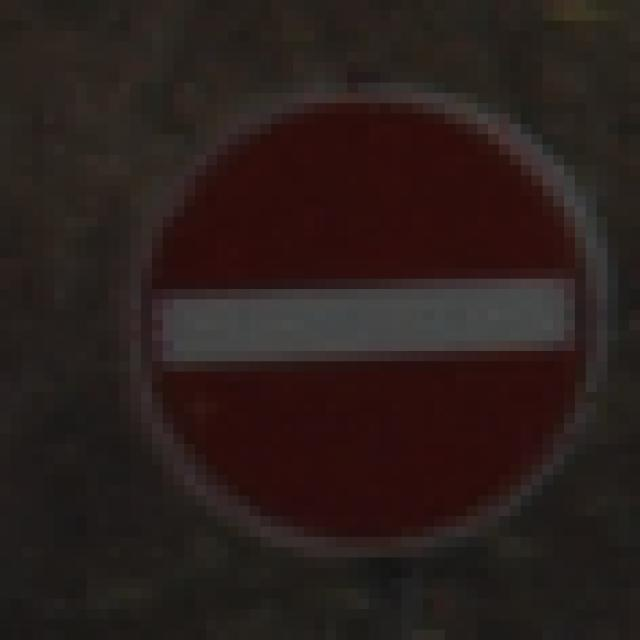No Entry: (66, 63, 587, 589)
